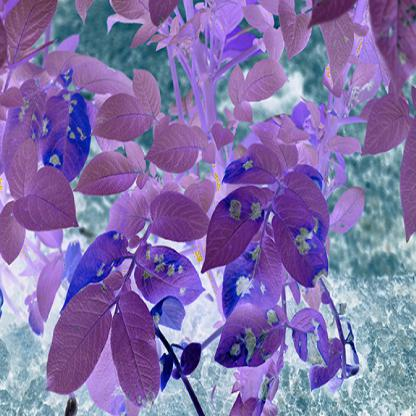potato leaf early blight: (200, 185, 265, 269), (218, 239, 284, 316), (216, 297, 287, 368), (38, 87, 91, 182), (61, 228, 128, 303), (135, 242, 206, 312), (270, 205, 328, 288), (3, 78, 51, 167), (221, 146, 284, 188), (289, 306, 331, 365)
